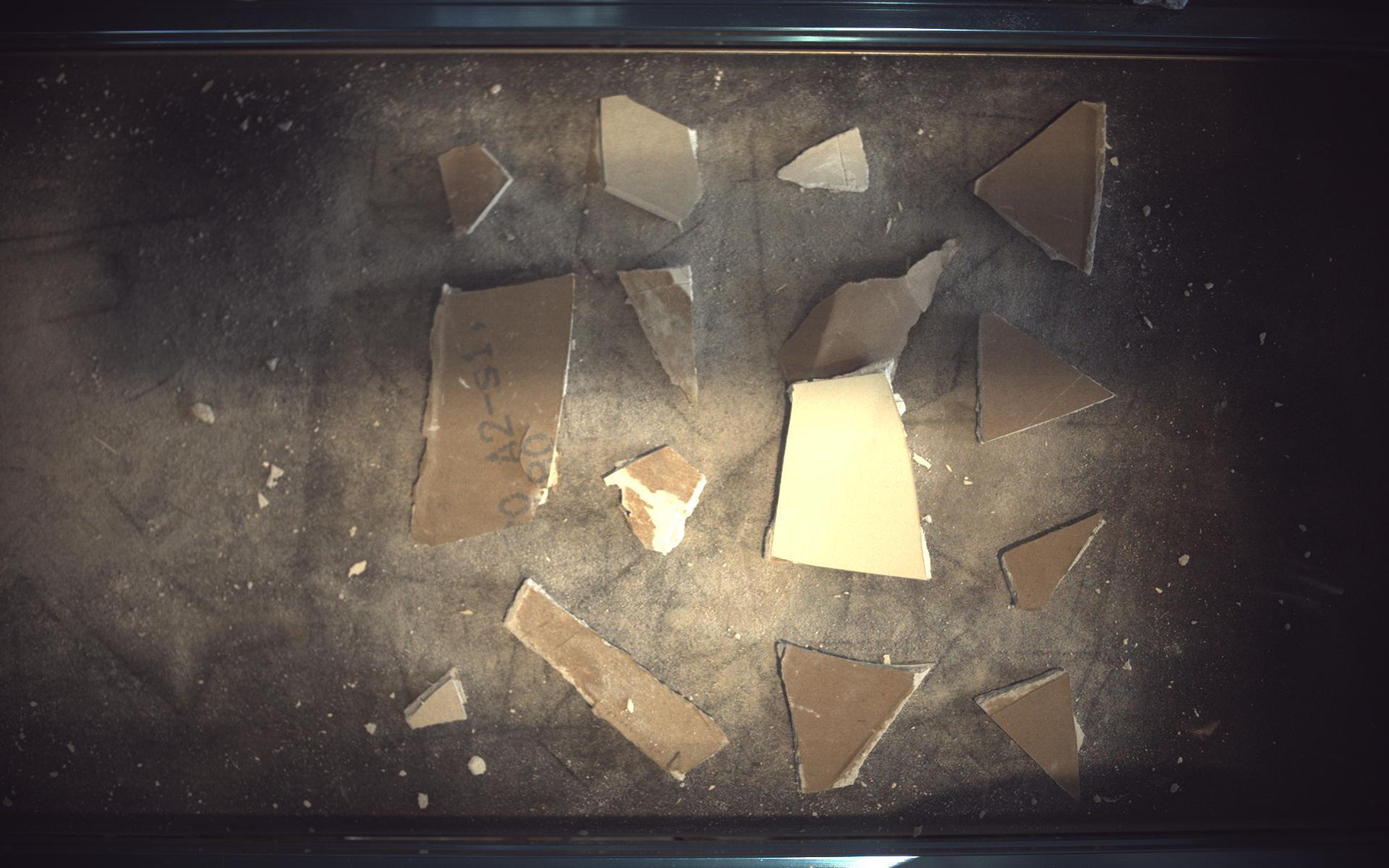gypsum_board: (767, 239, 959, 581), (505, 579, 729, 782), (411, 274, 575, 546), (778, 642, 935, 795), (974, 100, 1109, 273), (979, 312, 1117, 443), (977, 670, 1087, 801), (601, 95, 703, 224), (618, 265, 699, 404), (605, 446, 708, 555), (1002, 512, 1108, 612), (438, 142, 514, 236), (779, 127, 870, 192), (405, 669, 467, 730)
